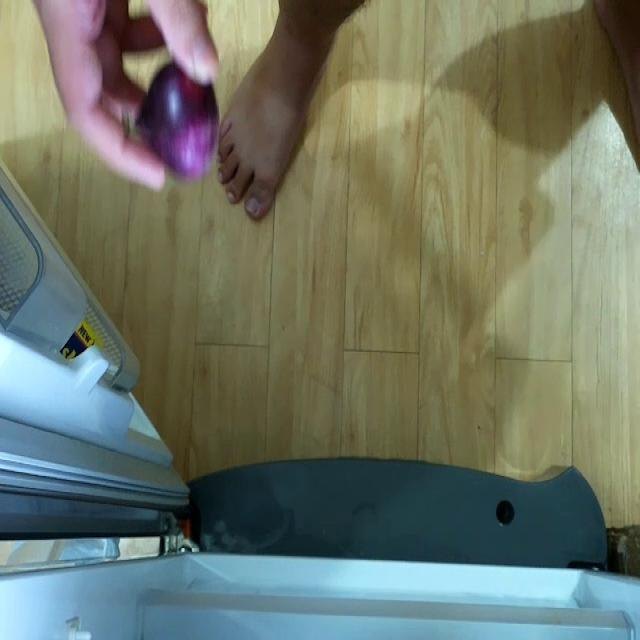onion: (143, 61, 224, 182)
